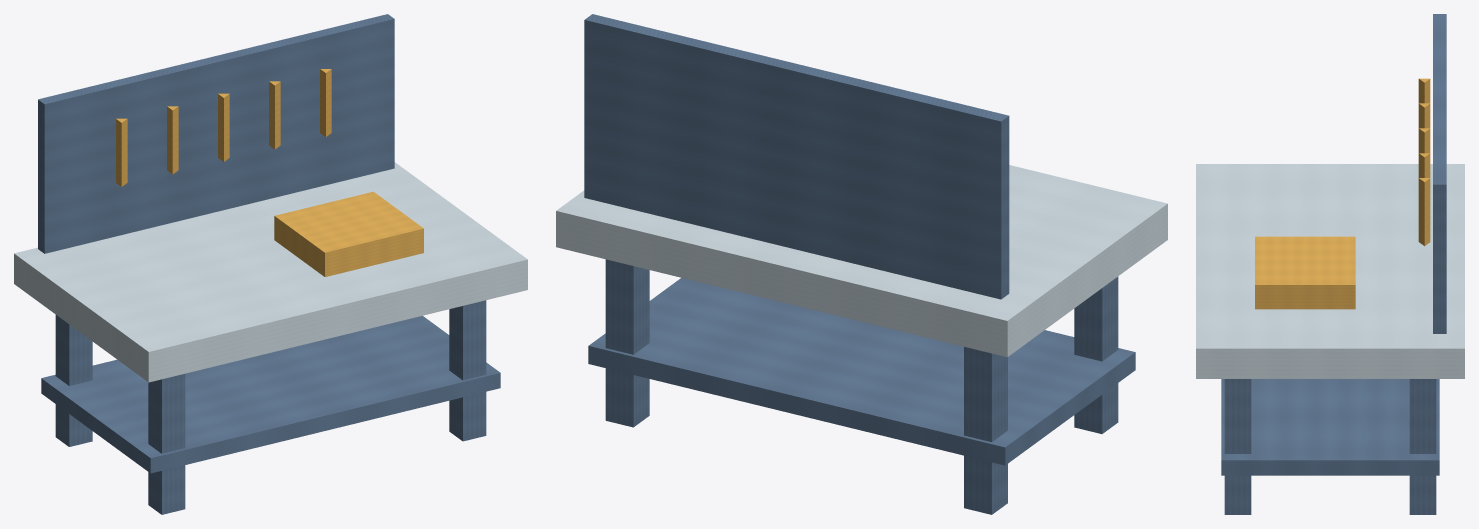
The model's file is atlas100-s058-a06.lod2.glb.
3 views of the same model, side by side, from view 1: azimuth 30°, elevation 25°; view 2: azimuth 150°, elevation 25°; view 3: azimuth 270°, elevation 25° (orthographic). The views are drawn at different scales.
Visible parts, largest first — view 1: atlas100-s058-a06:part-004, atlas100-s058-a06:part-006, atlas100-s058-a06:part-005, atlas100-s058-a06:part-012, atlas100-s058-a06:part-001, atlas100-s058-a06:part-003, atlas100-s058-a06:part-000, atlas100-s058-a06:part-009, atlas100-s058-a06:part-007, atlas100-s058-a06:part-010, atlas100-s058-a06:part-008, atlas100-s058-a06:part-011; view 2: atlas100-s058-a06:part-006, atlas100-s058-a06:part-005, atlas100-s058-a06:part-004, atlas100-s058-a06:part-002, atlas100-s058-a06:part-000, atlas100-s058-a06:part-001; view 3: atlas100-s058-a06:part-004, atlas100-s058-a06:part-005, atlas100-s058-a06:part-012, atlas100-s058-a06:part-006, atlas100-s058-a06:part-002, atlas100-s058-a06:part-003, atlas100-s058-a06:part-011, atlas100-s058-a06:part-008, atlas100-s058-a06:part-009, atlas100-s058-a06:part-007, atlas100-s058-a06:part-010.
Part boxes in pixels (x1,y1,x2,y2): atlas100-s058-a06:part-004: (14,162,527,382); atlas100-s058-a06:part-006: (38,14,394,253); atlas100-s058-a06:part-005: (41,316,500,473); atlas100-s058-a06:part-012: (274,191,423,276); atlas100-s058-a06:part-001: (148,374,185,514); atlas100-s058-a06:part-003: (449,300,486,441); atlas100-s058-a06:part-000: (55,315,92,446); atlas100-s058-a06:part-009: (218,93,229,161); atlas100-s058-a06:part-007: (116,118,127,186); atlas100-s058-a06:part-010: (269,81,280,149); atlas100-s058-a06:part-008: (167,106,178,174); atlas100-s058-a06:part-011: (320,69,331,136); atlas100-s058-a06:part-006: (584,14,1009,299); atlas100-s058-a06:part-005: (588,278,1135,465); atlas100-s058-a06:part-004: (556,165,1167,357); atlas100-s058-a06:part-002: (605,259,649,427); atlas100-s058-a06:part-000: (964,347,1007,514); atlas100-s058-a06:part-001: (1074,276,1118,433); atlas100-s058-a06:part-004: (1196,164,1464,378); atlas100-s058-a06:part-005: (1221,379,1439,475); atlas100-s058-a06:part-012: (1255,236,1355,309); atlas100-s058-a06:part-006: (1433,14,1446,333); atlas100-s058-a06:part-002: (1409,379,1436,514); atlas100-s058-a06:part-003: (1224,379,1251,514); atlas100-s058-a06:part-011: (1418,178,1430,246); atlas100-s058-a06:part-008: (1418,103,1430,128); atlas100-s058-a06:part-009: (1418,128,1430,153); atlas100-s058-a06:part-007: (1418,78,1430,103); atlas100-s058-a06:part-010: (1418,153,1430,177).
Size of the model in its own units: 2.6 by 2.21 by 1.6.
Materials: 3 (3 with a texture image).
